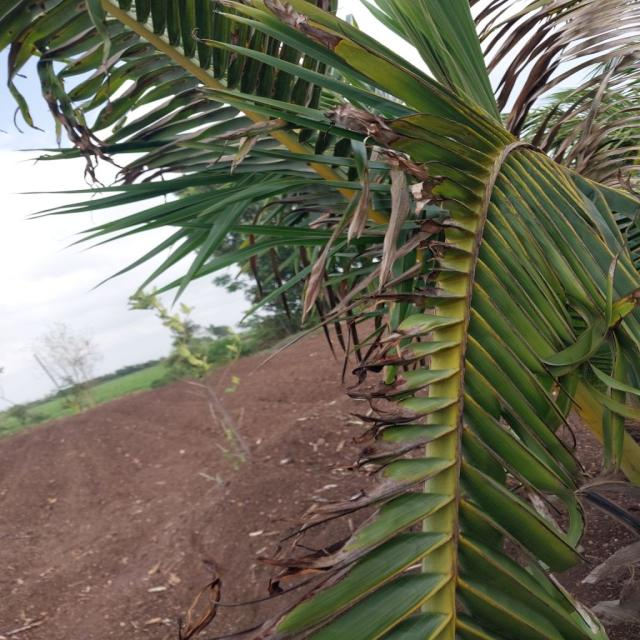leaf rot: (160, 12, 485, 627)
